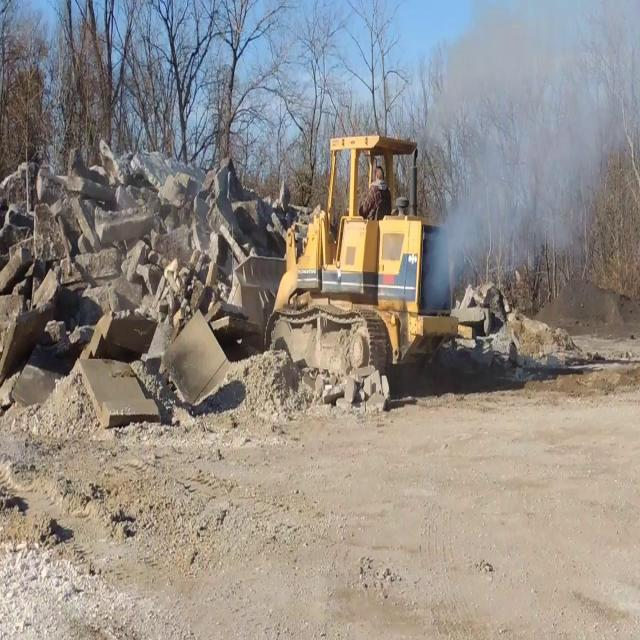Loader: (228, 134, 458, 377)
